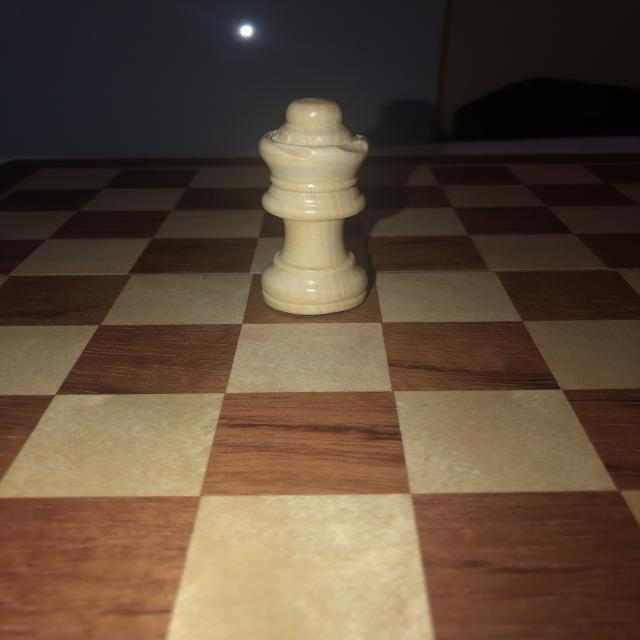white_queen: (258, 95, 373, 318)
